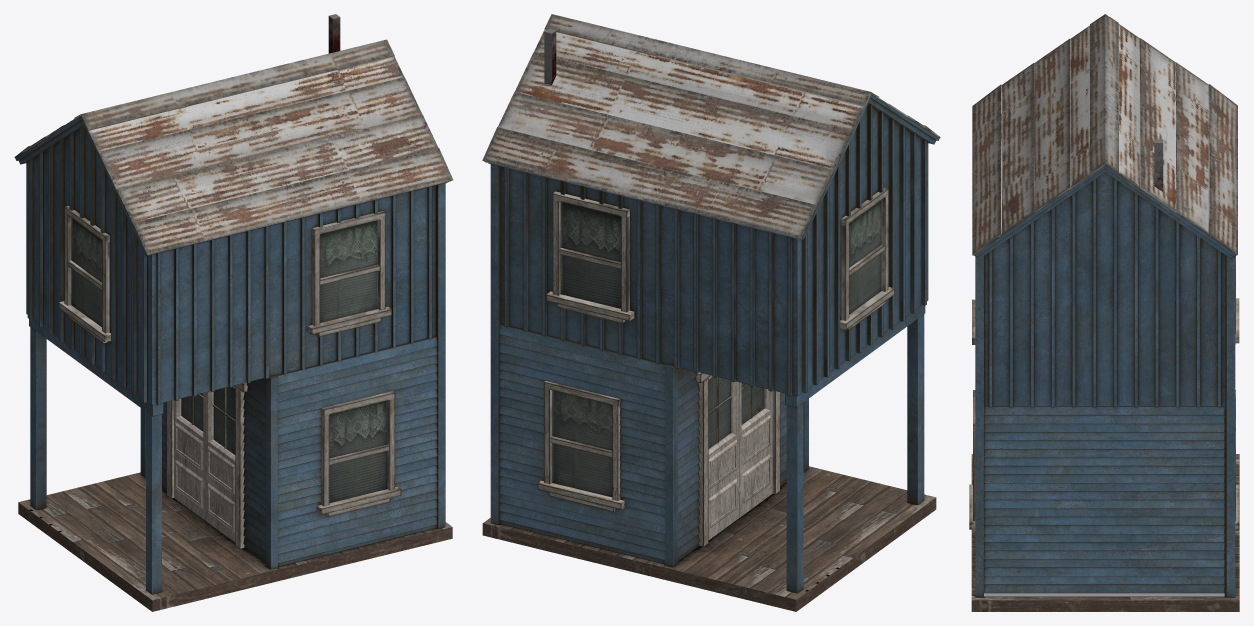
The model's file is Building_1.fbx.
The picture shows the model from 3 angles, left to right: view 1: azimuth 30°, elevation 25°; view 2: azimuth 150°, elevation 25°; view 3: azimuth 270°, elevation 25°; orthographic projection. The views are drawn at different scales.
Visible parts, largest first — view 1: Old Building-Freepoly.org; view 2: Old Building-Freepoly.org; view 3: Old Building-Freepoly.org.
Boxes of the visible parts, x1=… form: Old Building-Freepoly.org: x1=14, y1=14, x2=453, y2=611; Old Building-Freepoly.org: x1=482, y1=14, x2=940, y2=611; Old Building-Freepoly.org: x1=969, y1=14, x2=1239, y2=611.
Bounding box in the file's own units: 431 × 619 × 330.
